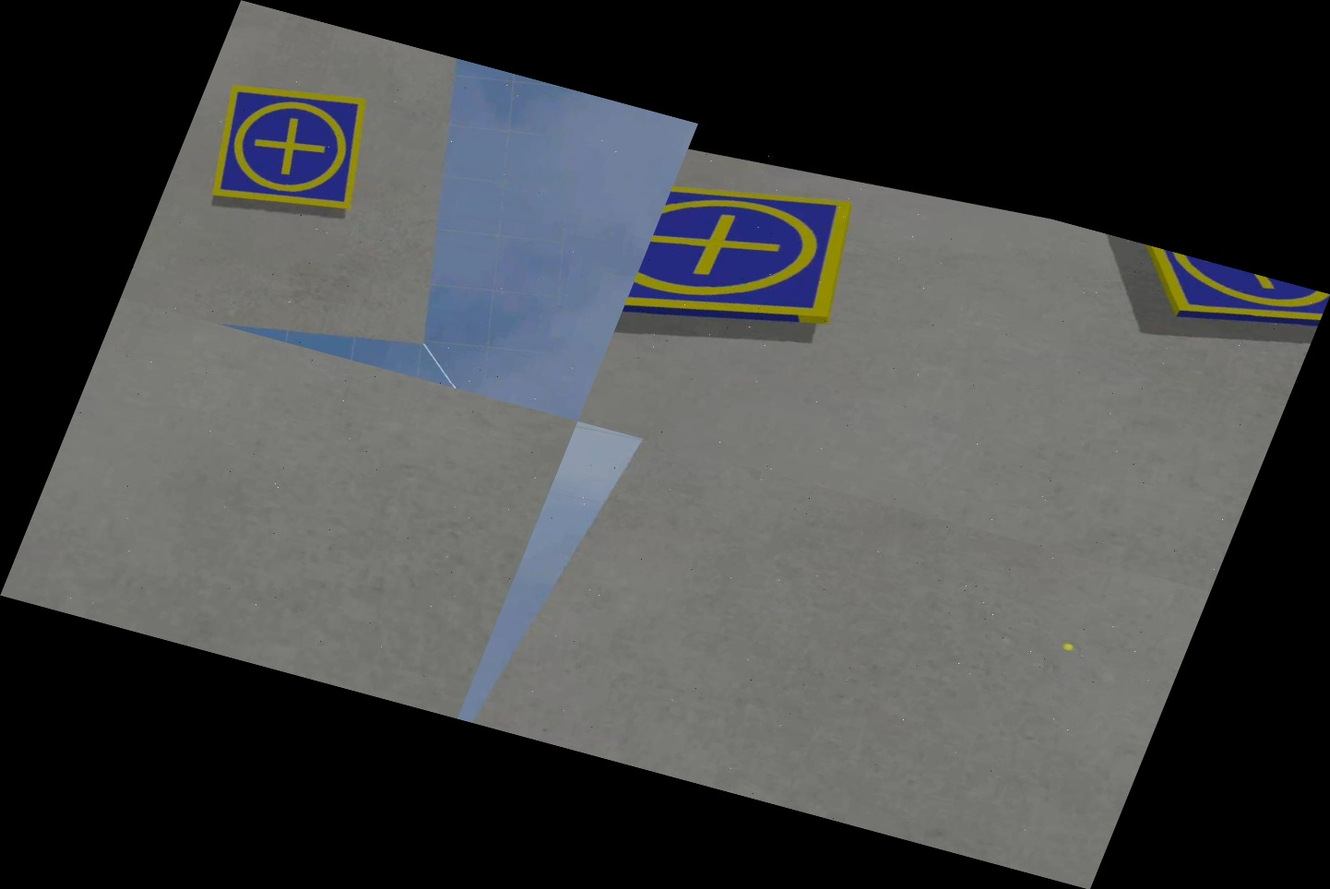small_base: (619, 156, 879, 371), (185, 63, 396, 237), (1112, 243, 1330, 355)
